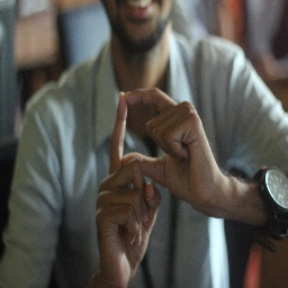D: (97, 83, 196, 197)
